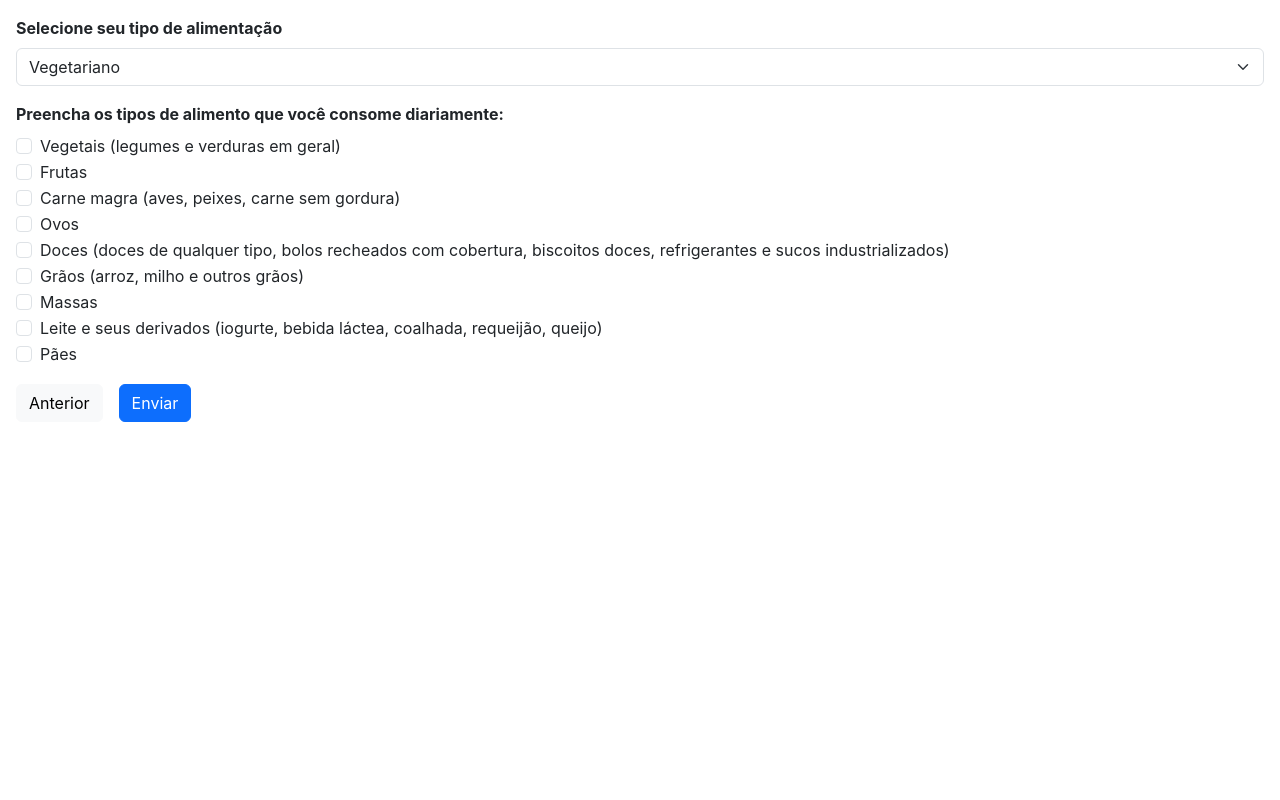
Test case: should require users to select at least one option
Select "Vegano" in the dropdown with test id "diet-select". click: (640, 67)
box: [16,48,1264,86]
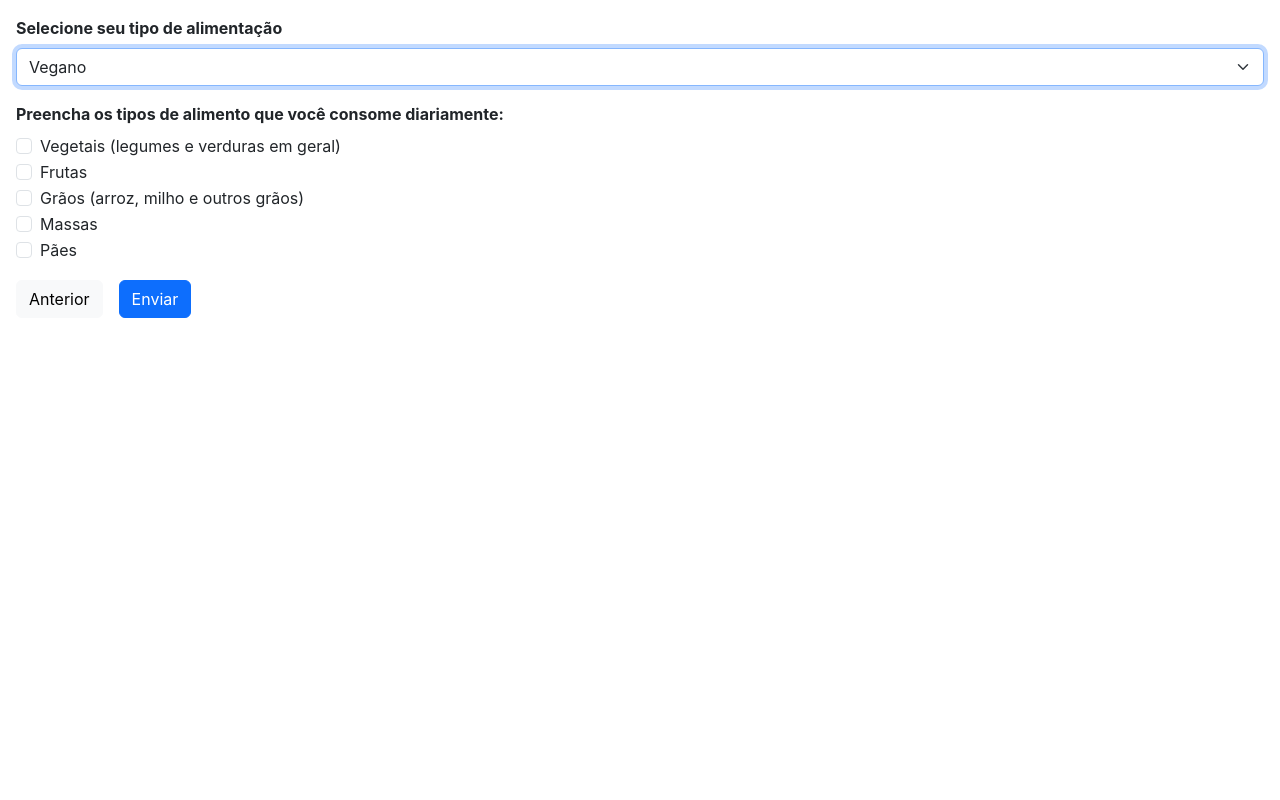
Click the button with test id "submit-button". click: (155, 299)
box: [119,280,191,318]
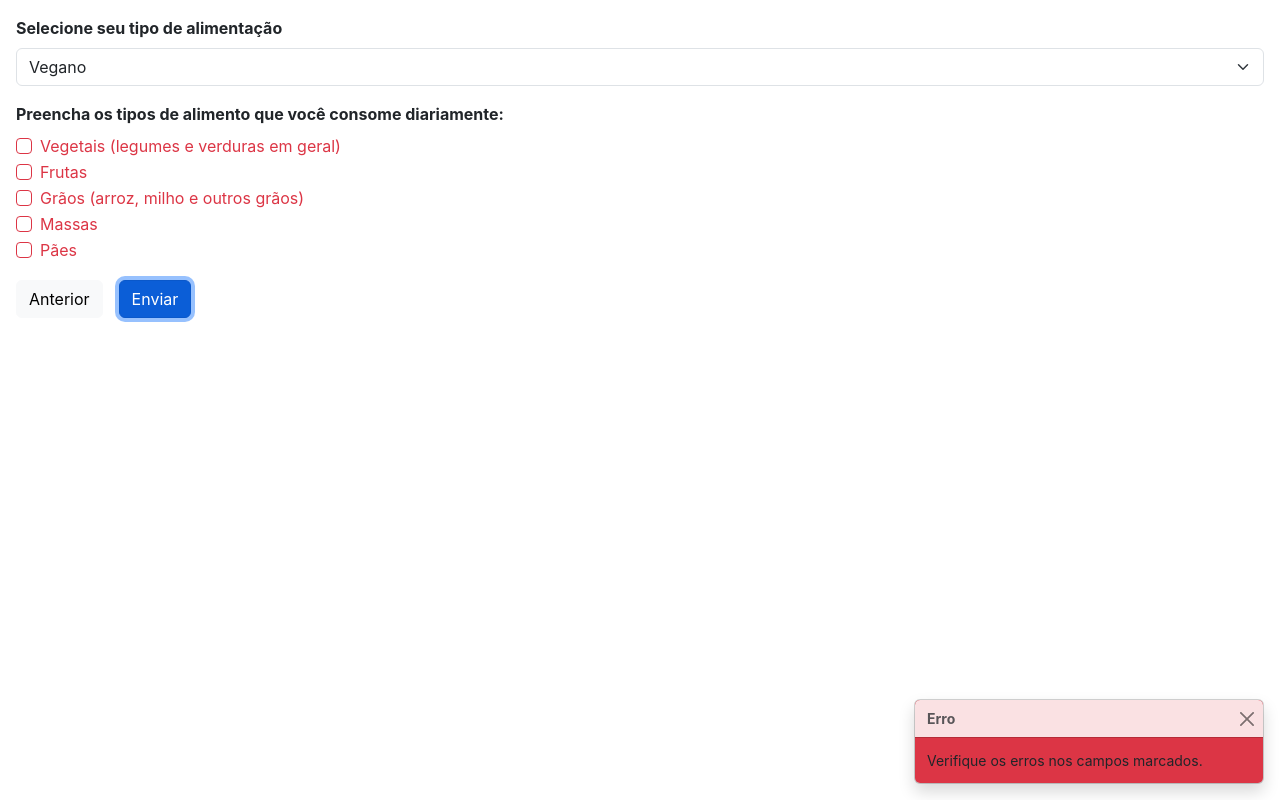
Expected: the message "Erro Verifique os erros nos campos marcados." is shown, [914,699,1264,784]
Expected: the message with test id "toast" shows "Verifique os erros nos campos marcados.", [927,752,1203,769]
